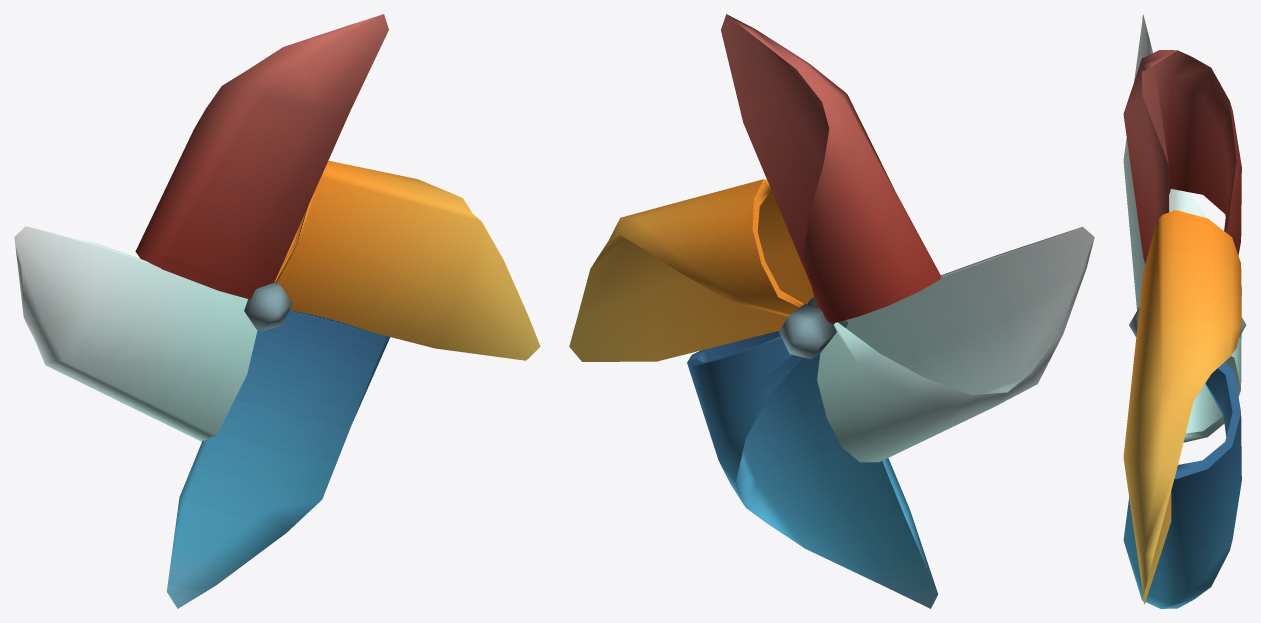
The model's file is Prop_Pinwheel.glb.
3 renders of one model, left to right at view 1: azimuth 30°, elevation 25°; view 2: azimuth 150°, elevation 25°; view 3: azimuth 270°, elevation 25°, orthographic. The views are drawn at different scales.
Parts seen in each view (by area): view 1: Prop_Pinwheel; view 2: Prop_Pinwheel; view 3: Prop_Pinwheel.
Boxes of the visible parts, x1,y1,x2,y2 form: Prop_Pinwheel: [14, 14, 540, 608]; Prop_Pinwheel: [569, 14, 1094, 608]; Prop_Pinwheel: [1123, 14, 1246, 608].
Size of the model in its own units: 3.64 by 3.6 by 0.6252.
Materials: 1 (1 with a texture image).
